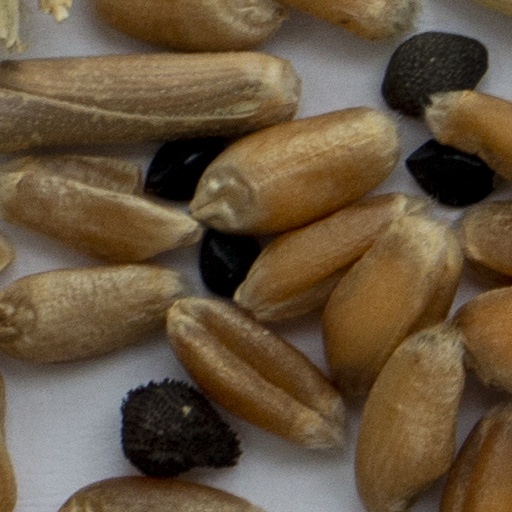Agrostemma-poly: (122, 381, 240, 476)
Convolvulus-poly: (385, 34, 486, 114)
Fallopia-Convolvulus-poly: (407, 141, 493, 203), (146, 138, 226, 196), (201, 227, 258, 294)
